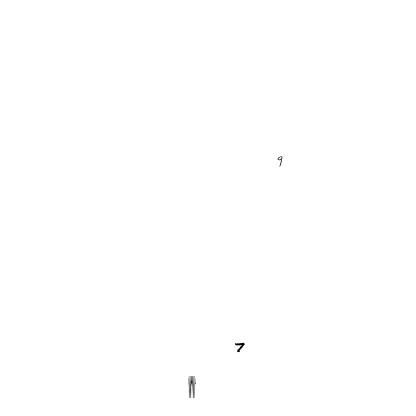7: (233, 339, 247, 353)
9: (273, 153, 287, 167)
Trouser: (181, 376, 203, 398)
